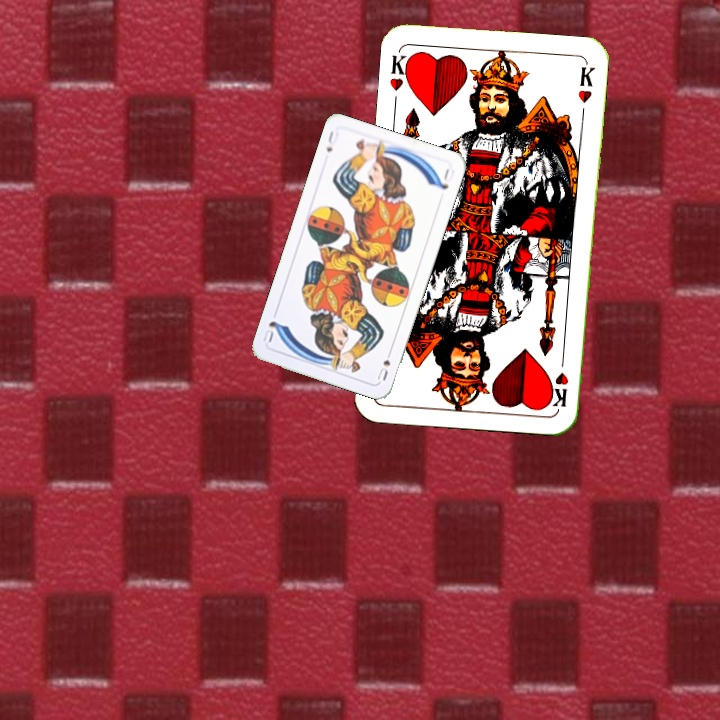HK: (548, 351, 571, 409), (385, 48, 414, 93)
SU: (373, 344, 395, 383), (322, 126, 341, 155)
